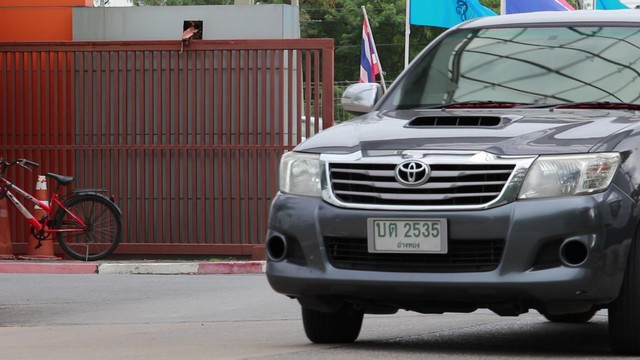in: (374, 221, 441, 250)
out: (366, 218, 449, 255)
